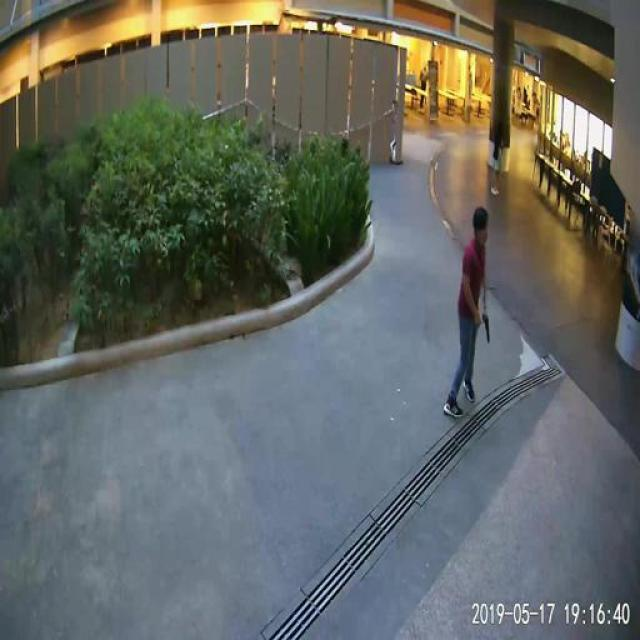Gun: (473, 307, 502, 353)
